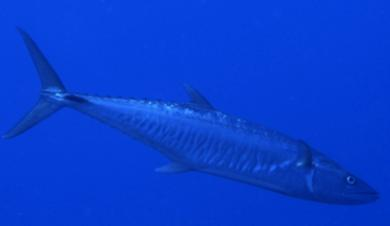Scombridae -Tunas-: (0, 25, 381, 208)
